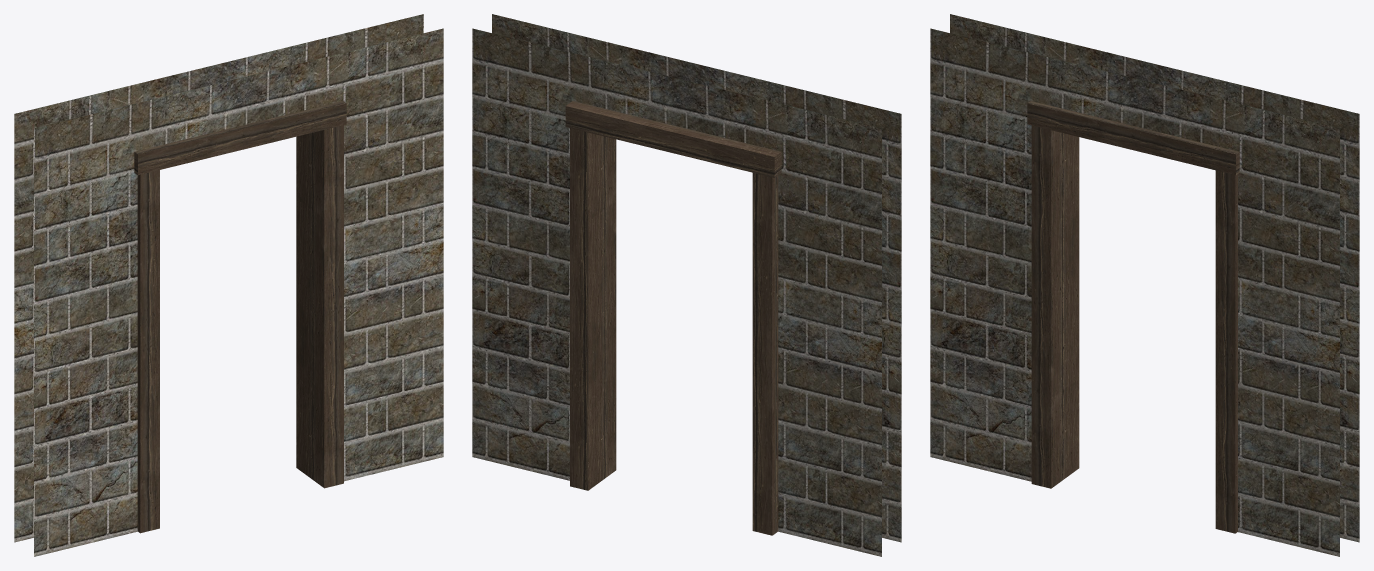
Rendered from ARC1010211.fbx.
3 views of the same model, side by side, from view 1: azimuth 30°, elevation 25°; view 2: azimuth 150°, elevation 25°; view 3: azimuth 330°, elevation 25° (orthographic).
Visible parts, largest first — view 1: smARC1010211; view 2: smARC1010211; view 3: smARC1010211.
Boxes of the visible parts, x1=… form: smARC1010211: x1=14, y1=14, x2=443, y2=556; smARC1010211: x1=472, y1=14, x2=901, y2=556; smARC1010211: x1=930, y1=14, x2=1359, y2=556.
Bounding box in the file's own units: 268 × 268 × 34.27.
1 material, 1 textured.
